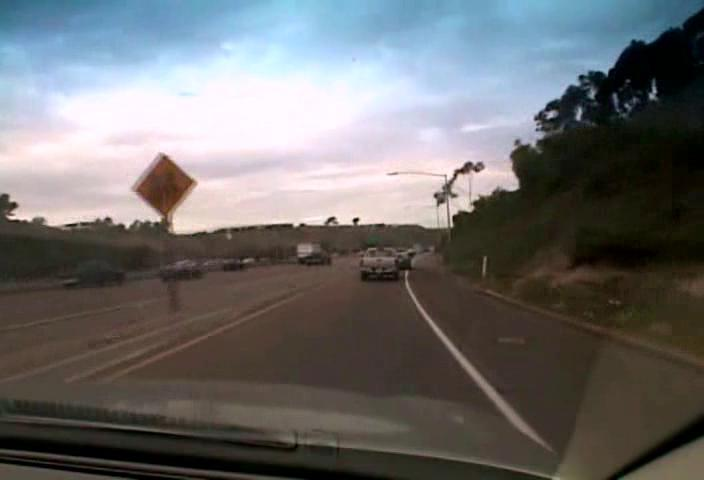addedLane: (133, 152, 197, 216)
